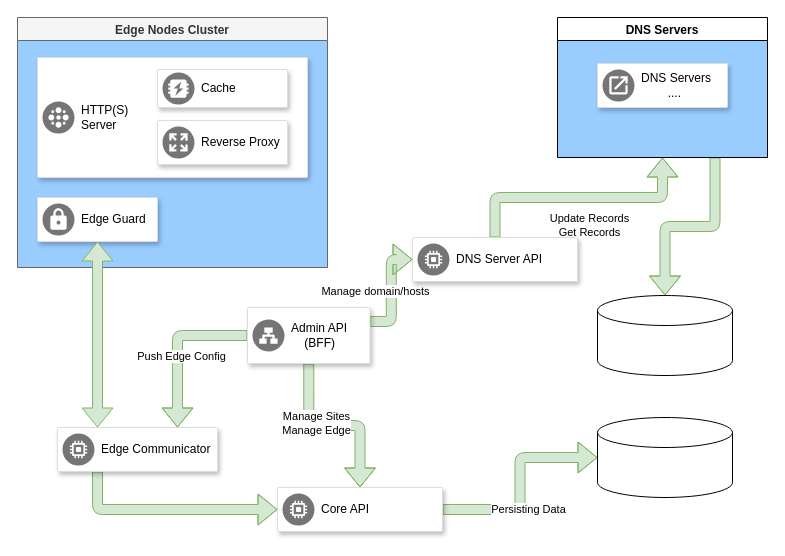
This 785x556 diagram has some shape labels left out. Here are the shapes that lost their labels. From the top down, the centre of each, then its label:
At (x=664, y=335): "MySQL".
At (x=664, y=457): "MongoDB".
